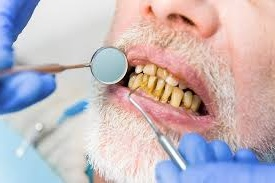Tooth Discoloration: (128, 64, 204, 115)
